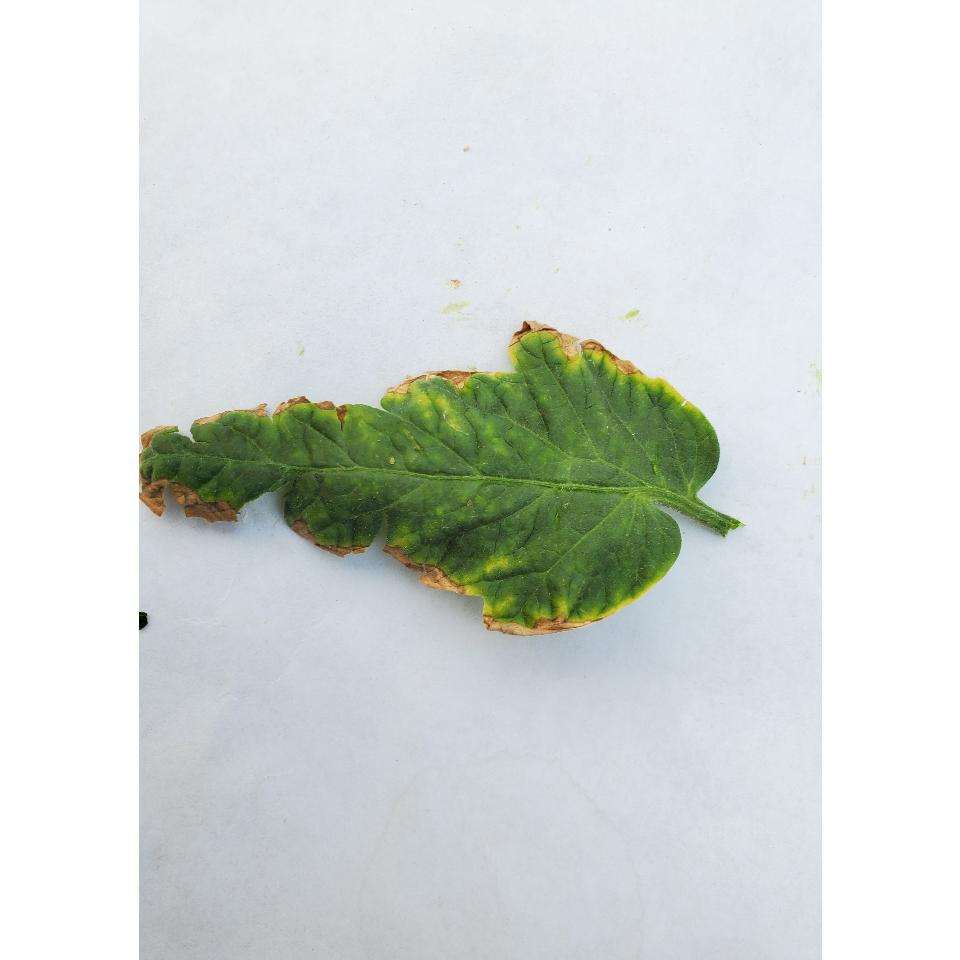tomato_bacterial_blight: (148, 322, 758, 652)
